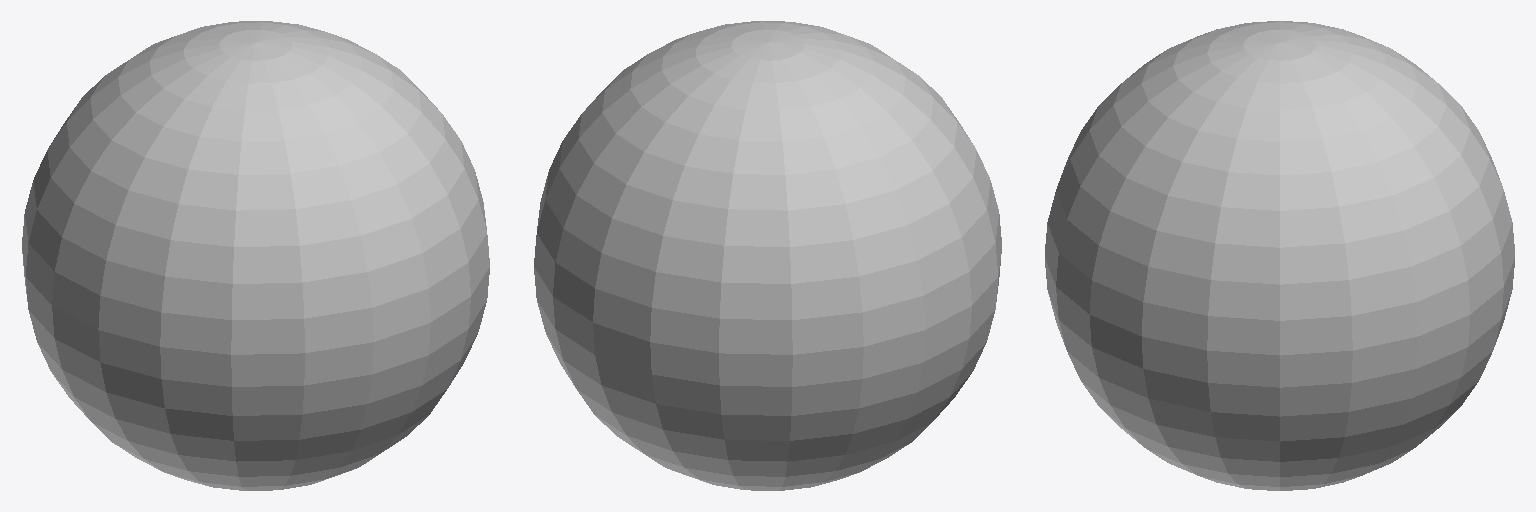
Rendered from WheelFL.obj.
3 renders of one model, left to right at view 1: azimuth 30°, elevation 25°; view 2: azimuth 150°, elevation 25°; view 3: azimuth 270°, elevation 25°, orthographic.
Size of the model in its own units: 1.4 by 1.4 by 1.4.